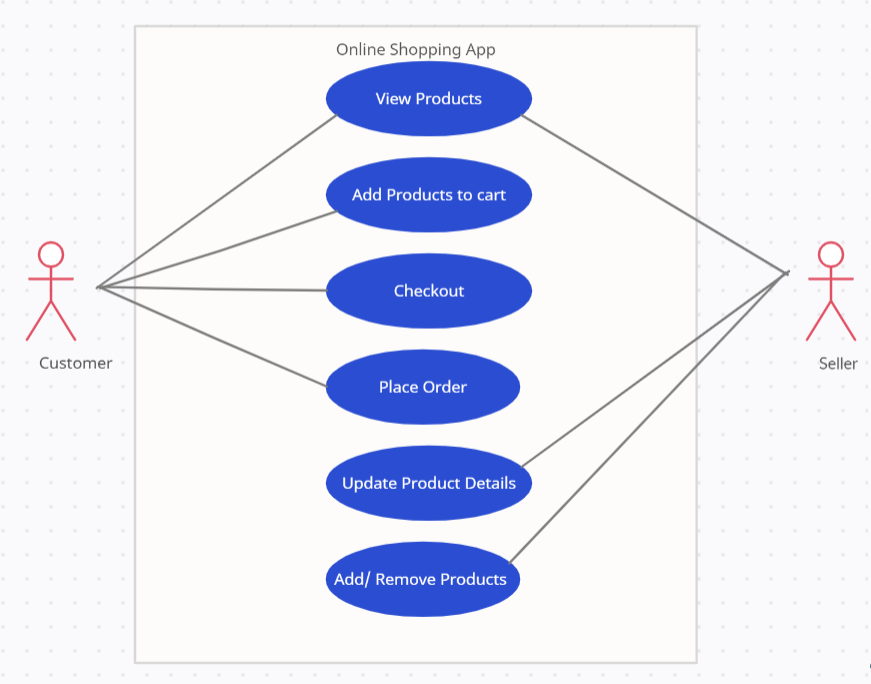actor: (803, 239, 859, 344), (25, 239, 80, 344)
association: (511, 278, 782, 563), (522, 274, 783, 465), (522, 114, 787, 273), (102, 113, 338, 286), (106, 287, 324, 387), (100, 209, 339, 289), (101, 281, 327, 295)
text: (339, 473, 518, 497), (332, 568, 508, 591), (332, 39, 508, 60), (348, 184, 508, 204), (374, 371, 476, 401), (369, 88, 490, 109), (389, 279, 474, 304), (38, 350, 117, 375), (817, 352, 862, 374)
use_case: (323, 251, 534, 331), (324, 444, 535, 523), (324, 156, 534, 235), (325, 60, 532, 139), (325, 539, 522, 620), (323, 347, 522, 427)
